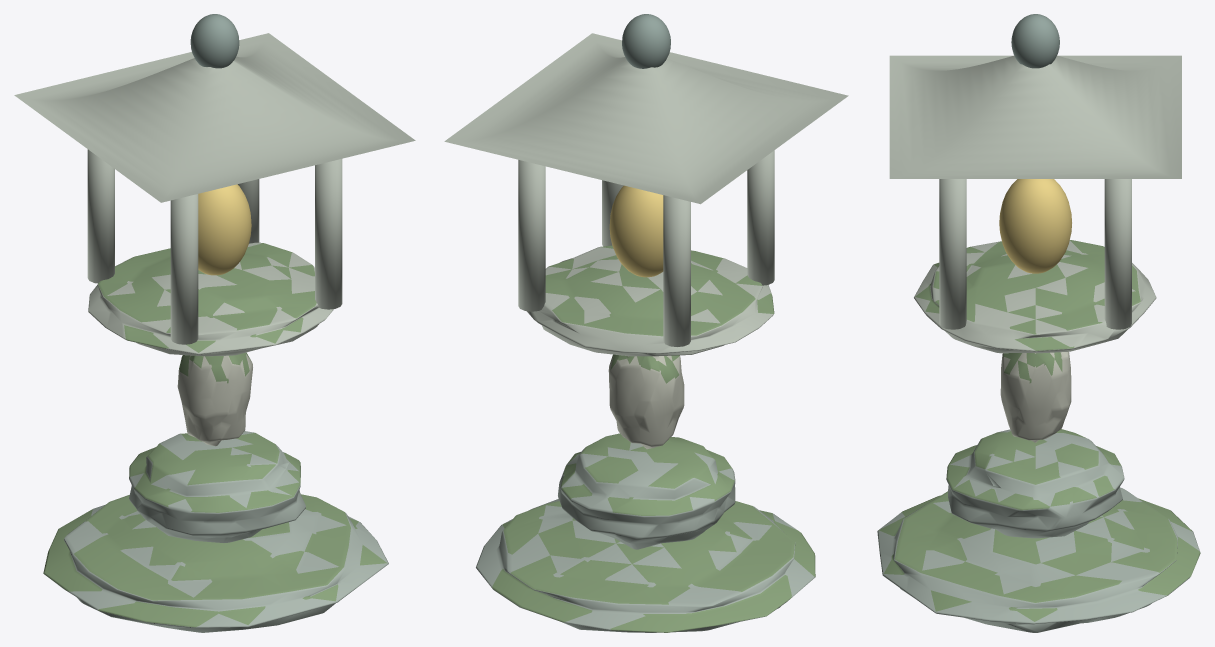
The model's file is lantern.glb.
3 renders of one model, left to right at view 1: azimuth 30°, elevation 25°; view 2: azimuth 150°, elevation 25°; view 3: azimuth 270°, elevation 25°, orthographic.
Visible parts, largest first — view 1: Lantern curved roof, Lantern stone, Lantern stone.003, Lantern stone.001, Lantern stone.002, Lantern window pillar.002, Lantern glow, Lantern window pillar.003, Lantern window pillar, Roof crown, Lantern window pillar.001; view 2: Lantern curved roof, Lantern stone, Lantern stone.003, Lantern stone.001, Lantern stone.002, Lantern glow, Lantern window pillar, Lantern window pillar.001, Lantern window pillar.002, Roof crown, Lantern window pillar.003; view 3: Lantern curved roof, Lantern stone, Lantern stone.003, Lantern stone.001, Lantern glow, Lantern stone.002, Lantern window pillar.003, Lantern window pillar.001, Roof crown.
Part boxes in pixels (x1,y1,x2,y2): Lantern curved roof: (14,33,415,202); Lantern stone: (43,494,388,632); Lantern stone.003: (88,242,333,356); Lantern stone.001: (129,431,305,543); Lantern stone.002: (177,352,252,446); Lantern window pillar.002: (170,194,198,344); Lantern glow: (198,184,251,275); Lantern window pillar.003: (315,159,342,309); Lantern window pillar: (87,149,114,283); Roof crown: (190,14,239,68); Lantern window pillar.001: (238,179,259,243); Lantern curved roof: (444,33,848,204); Lantern stone: (476,499,815,632); Lantern stone.003: (526,245,774,356); Lantern stone.001: (558,433,735,549); Lantern stone.002: (608,354,684,449); Lantern glow: (609,185,663,277); Lantern window pillar: (663,195,690,346); Lantern window pillar.001: (518,160,545,311); Lantern window pillar.002: (747,150,774,285); Roof crown: (622,14,670,68); Lantern window pillar.003: (602,180,623,246); Lantern curved roof: (889,55,1181,178); Lantern stone: (877,487,1200,632); Lantern stone.003: (914,240,1156,353); Lantern stone.001: (946,429,1124,538); Lantern glow: (999,179,1071,273); Lantern stone.002: (1000,351,1071,442); Lantern window pillar.003: (939,179,966,329); Lantern window pillar.001: (1104,179,1131,329); Roof crown: (1011,14,1059,68).
Bounding box in the file's own units: 0.6852 × 1.29 × 0.6651.
